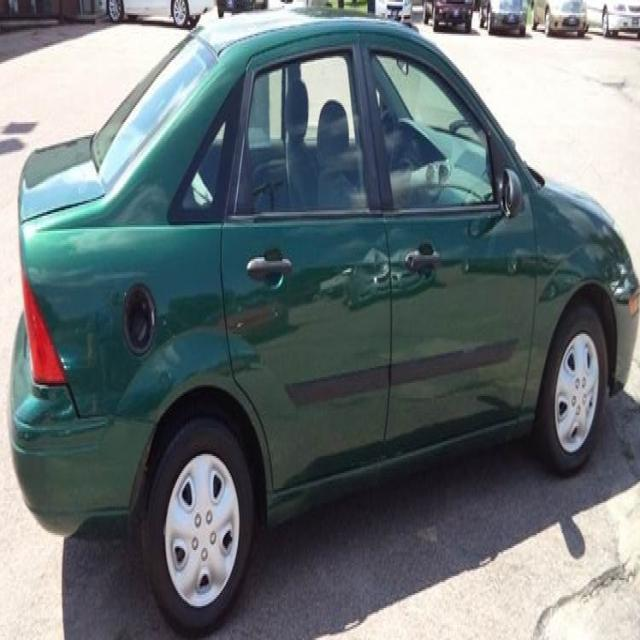green: (5, 12, 640, 592)
